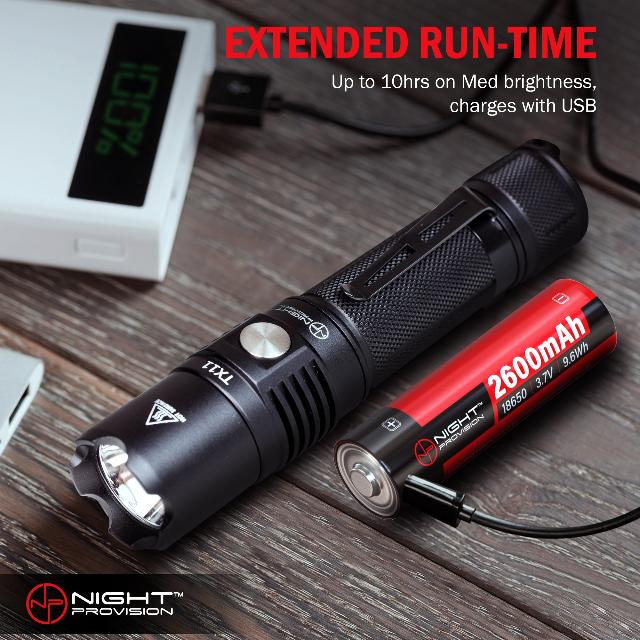Flashlight: (63, 132, 597, 564)
